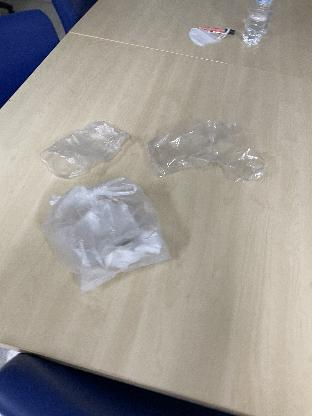Others: (35, 186, 172, 288), (144, 122, 268, 192), (34, 116, 136, 186)
